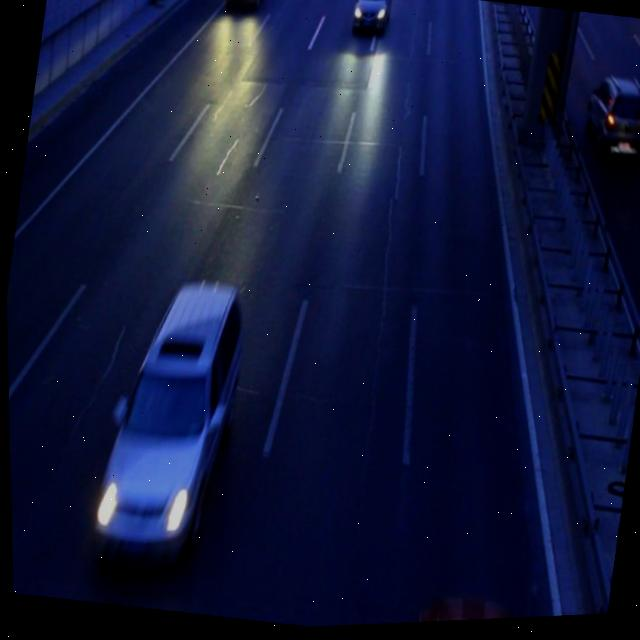car: (86, 275, 251, 570), (580, 82, 640, 160), (350, 0, 392, 33), (225, 0, 267, 8)
